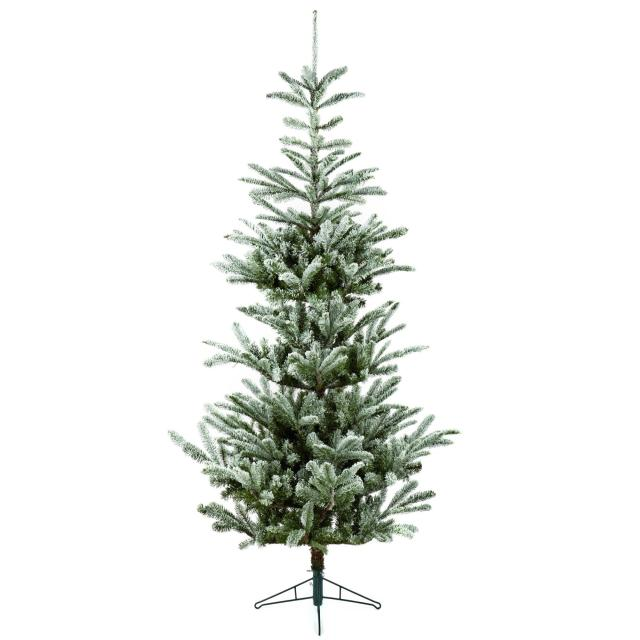Christmas-tree: (93, 0, 496, 557)
